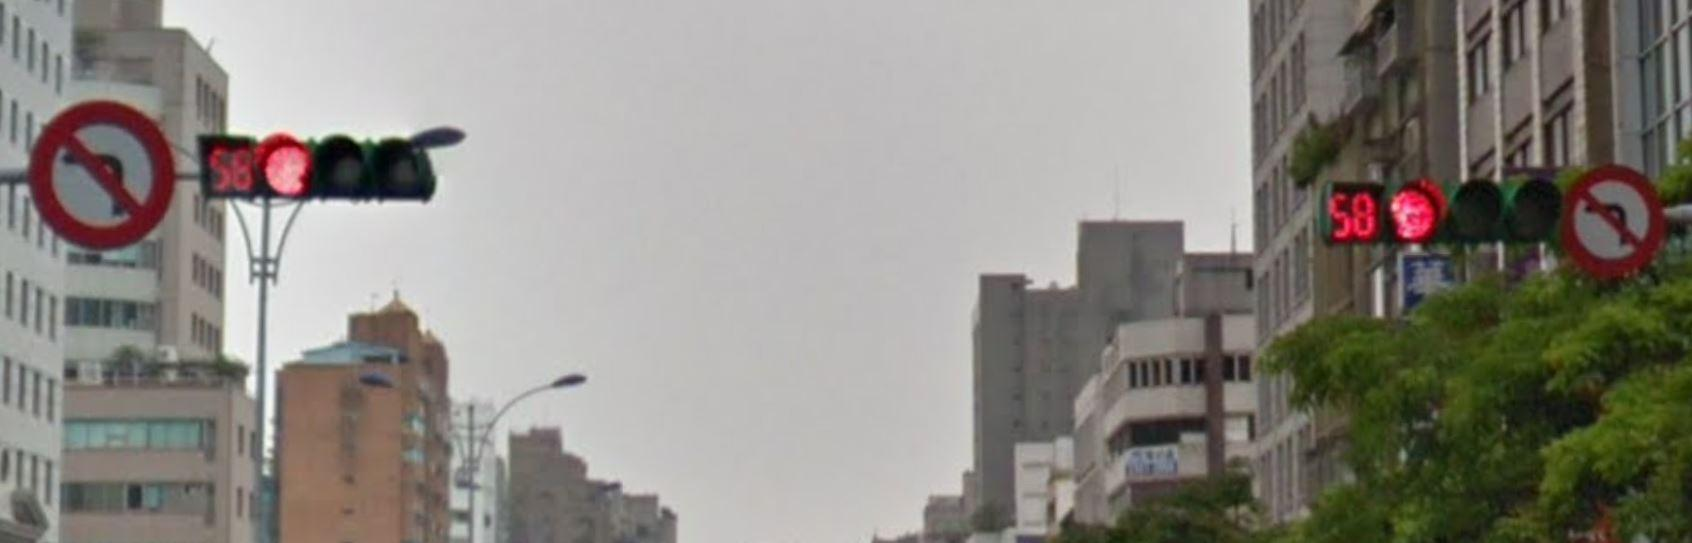no_left_turn: (27, 98, 175, 246), (1563, 164, 1663, 274)
red_traffic_light: (1316, 176, 1563, 246), (194, 133, 438, 200)
